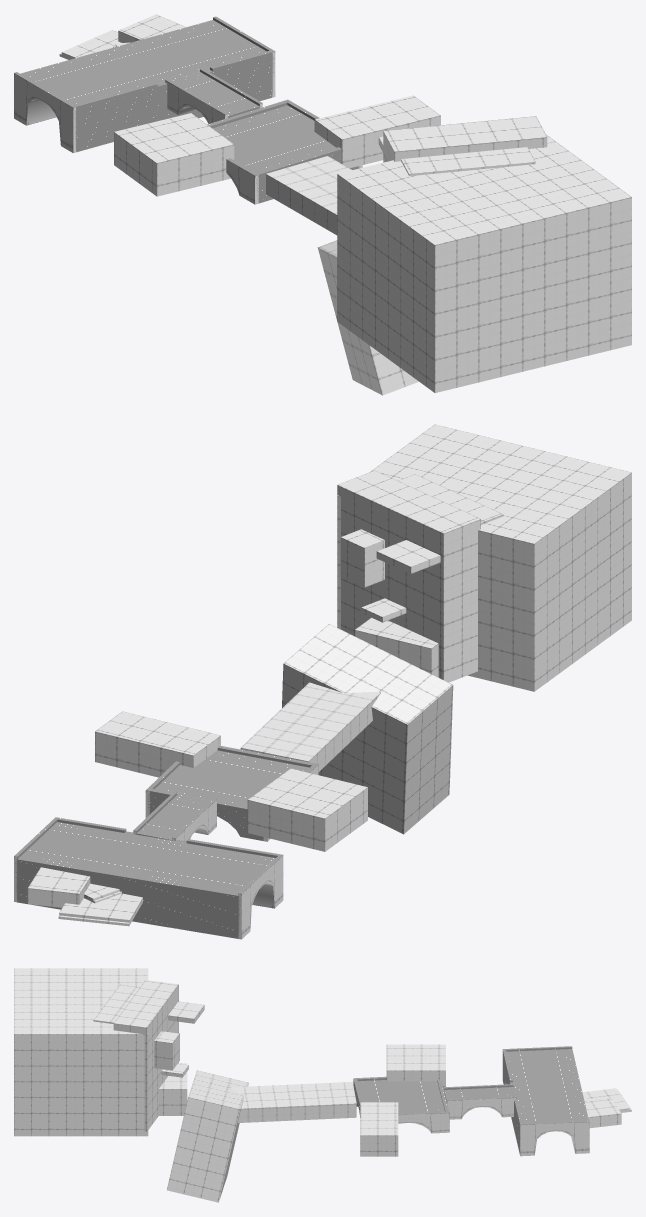
The model's file is Block01.fbx.
3 renders of one model, top to bottom at view 1: azimuth 30°, elevation 25°; view 2: azimuth 150°, elevation 25°; view 3: azimuth 270°, elevation 25°, orthographic. The views are drawn at different scales.
Parts seen in each view (by area): view 1: Cube, Cube__1_.004, Cube__13_, Cube__1_.007, Cube__2_, Cube__14_, Cube__6_, Cube__3_, Cube__1_.005, Cube__24_, Cube__7_, Cube__9_; view 2: Cube, Cube__3_, Cube__1_.004, Cube__2_, Cube__13_, Cube__6_, Cube__1_.007, Cube__14_, Cube__1_.005, Cube__23_, Cube__26_, Cube__7_ (+4 smaller); view 3: Cube, Cube__1_.004, Cube__3_, Cube__6_, Cube__2_, Cube__1_.007, Cube__13_, Cube__14_, Cube__1_.005, Cube__23_, Cube__26_, Cube__7_ (+3 smaller).
Boxes of the visible parts, <box> form: Cube: <box>337,134,631,392</box>; Cube__1_.004: <box>14,16,275,153</box>; Cube__13_: <box>114,113,234,196</box>; Cube__1_.007: <box>207,99,362,204</box>; Cube__2_: <box>383,116,547,162</box>; Cube__14_: <box>314,95,440,168</box>; Cube__6_: <box>266,156,352,235</box>; Cube__3_: <box>317,240,418,395</box>; Cube__1_.005: <box>165,68,262,123</box>; Cube__24_: <box>401,147,535,176</box>; Cube__7_: <box>118,14,185,42</box>; Cube__9_: <box>59,30,121,59</box>; Cube: <box>337,424,631,691</box>; Cube__3_: <box>282,624,453,834</box>; Cube__1_.004: <box>14,817,283,939</box>; Cube__2_: <box>337,470,480,682</box>; Cube__13_: <box>247,768,367,851</box>; Cube__6_: <box>240,682,380,771</box>; Cube__1_.007: <box>145,745,318,841</box>; Cube__14_: <box>95,711,220,777</box>; Cube__1_.005: <box>133,791,216,840</box>; Cube__23_: <box>354,617,438,677</box>; Cube__26_: <box>340,529,384,587</box>; Cube__7_: <box>27,867,90,907</box>; Cube: <box>14,968,148,1136</box>; Cube__1_.004: <box>502,1046,589,1156</box>; Cube__3_: <box>167,1070,248,1202</box>; Cube__6_: <box>230,1082,356,1122</box>; Cube__2_: <box>113,980,178,1131</box>; Cube__1_.007: <box>353,1076,449,1133</box>; Cube__13_: <box>386,1044,445,1088</box>; Cube__14_: <box>360,1102,398,1156</box>; Cube__1_.005: <box>443,1084,516,1119</box>; Cube__23_: <box>158,1063,187,1115</box>; Cube__26_: <box>154,1031,179,1070</box>; Cube__7_: <box>584,1098,621,1128</box>.
Size of the model in its own units: 1242 by 1201 by 3539.
